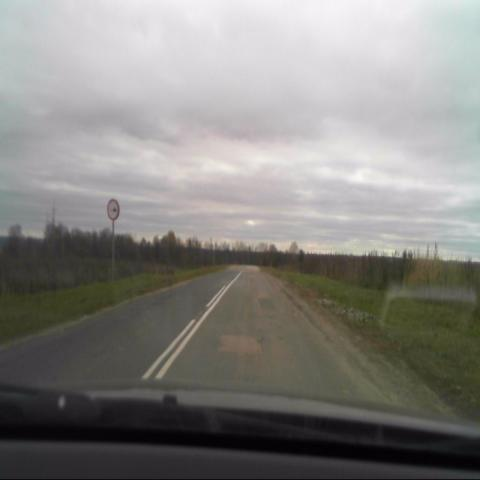3_20: (106, 197, 120, 222)
